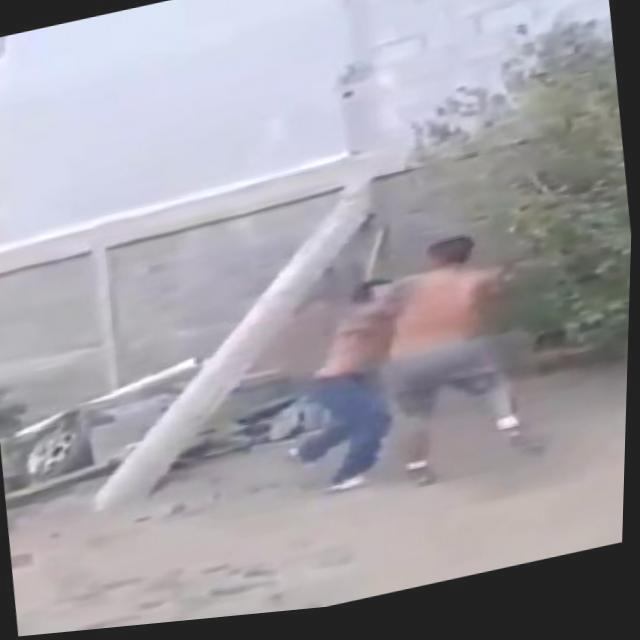fight: (299, 233, 532, 504)
